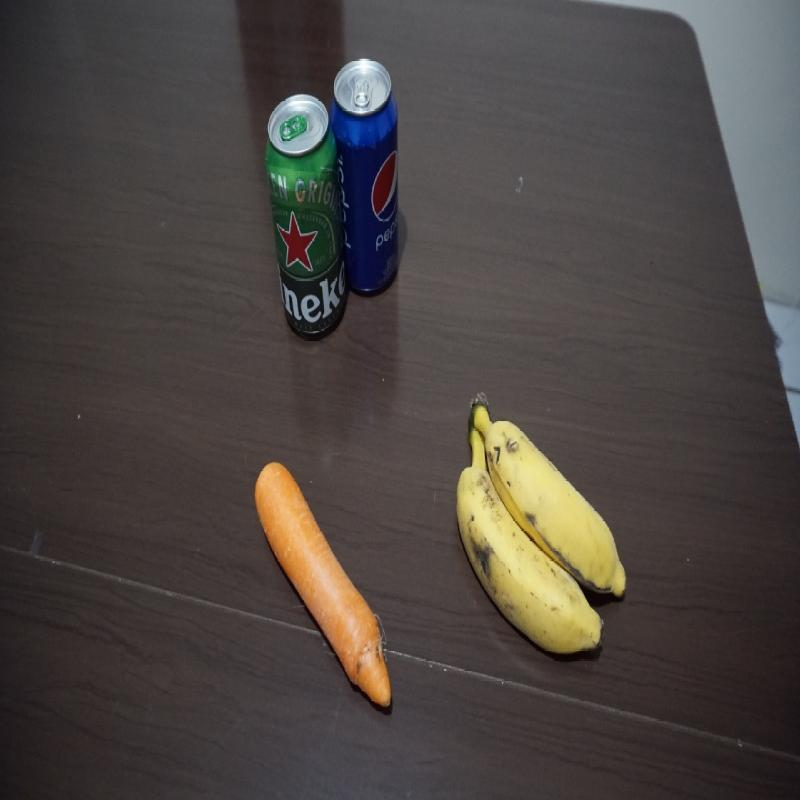Banana: (455, 392, 627, 659)
Beer can: (266, 94, 345, 338)
Carrot: (255, 462, 394, 714)
Soda can: (331, 56, 400, 302)
